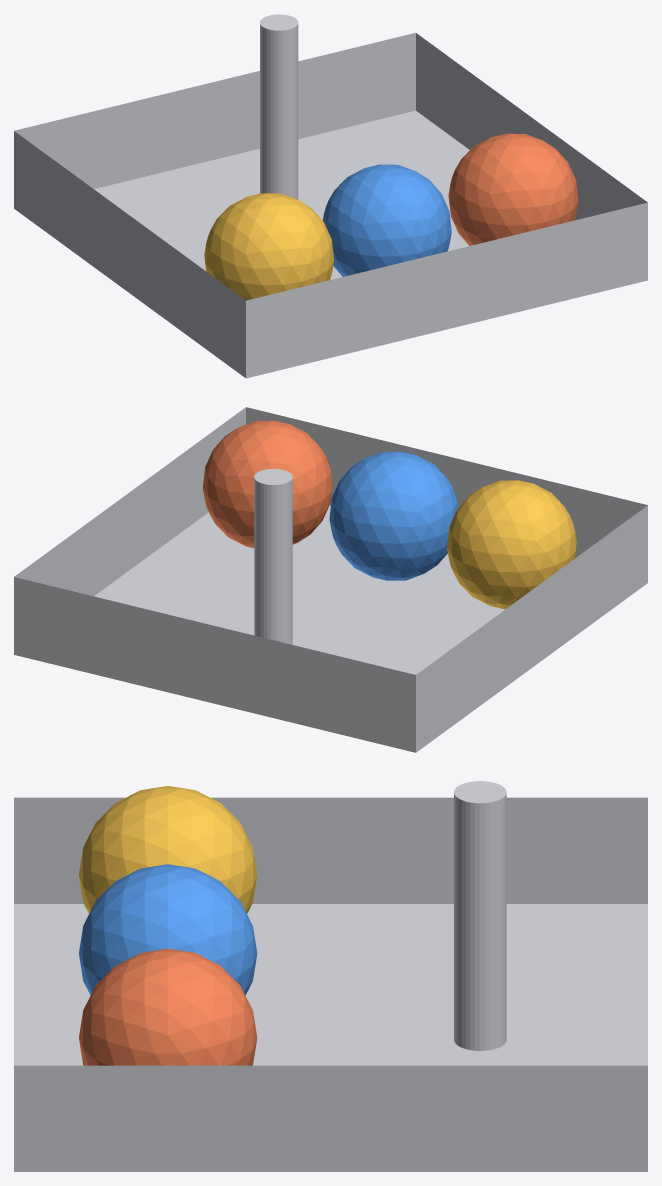
File: SoftbodyRigidBody.glb
3 renders of one model, top to bottom at view 1: azimuth 30°, elevation 25°; view 2: azimuth 150°, elevation 25°; view 3: azimuth 270°, elevation 25°, orthographic. The views are drawn at different scales.
Parts seen in each view (by area): view 1: Plane.001, Icosphere.003, Icosphere.005, Icosphere.004; view 2: Plane.001, Icosphere.005, Icosphere.004, Icosphere.003; view 3: Plane.001, Icosphere.003, Icosphere.005, Icosphere.004.
Part boxes in pixels (<box>): Plane.001: <box>14,14,647,378</box>; Icosphere.003: <box>448,133,578,245</box>; Icosphere.005: <box>322,164,451,276</box>; Icosphere.004: <box>204,193,334,300</box>; Plane.001: <box>14,407,647,752</box>; Icosphere.005: <box>329,451,458,580</box>; Icosphere.004: <box>447,480,576,609</box>; Icosphere.003: <box>203,420,332,548</box>; Plane.001: <box>14,781,647,1171</box>; Icosphere.003: <box>79,948,257,1065</box>; Icosphere.005: <box>79,864,257,995</box>; Icosphere.004: <box>79,786,257,913</box>.
Bounding box in the file's own units: 7.1 × 3.38 × 7.1.
